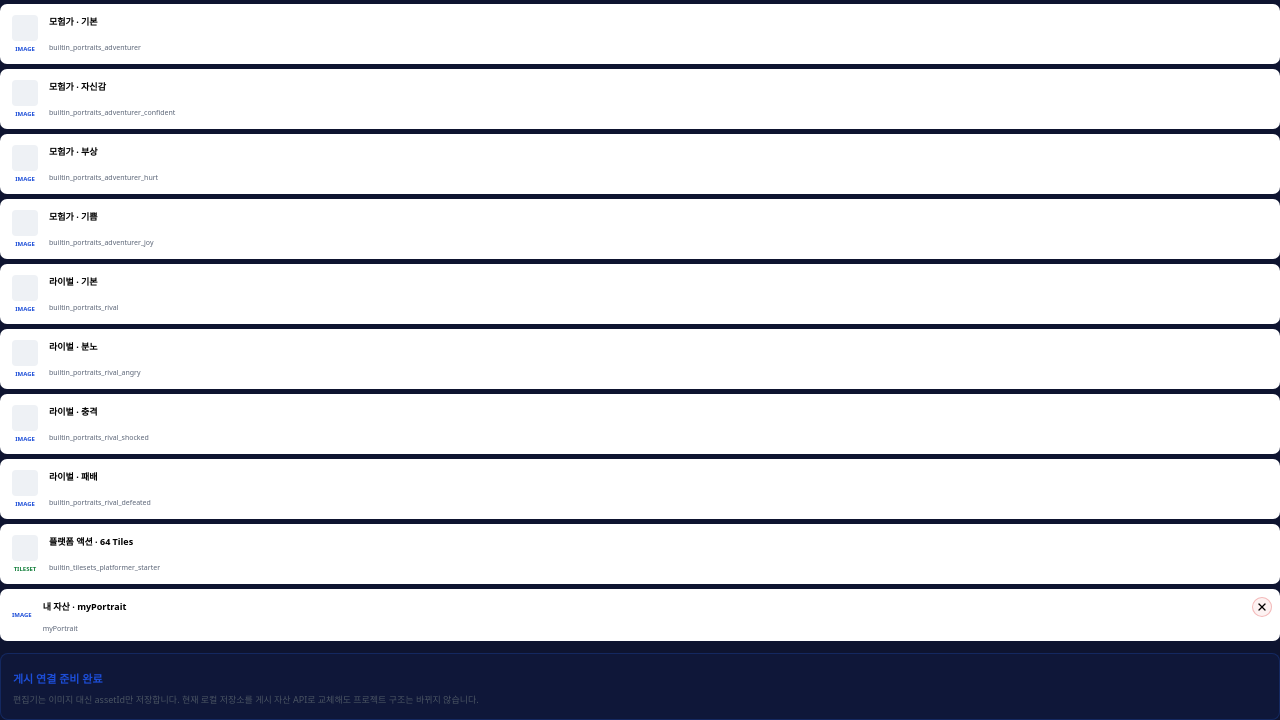
Test: ProjectDataPanel — 자산 삭제(S15P21A604-561) › 사용되지 않는 커스텀 자산은 삭제 버튼 → 확인 카드 → 삭제 확정까지 이어진다
The width and height of the screenshot is (1280, 720).
(page scrolled)
Click the button named "내 자산 · myPortrait 삭제" at (1262, 607), box [1252,597,1272,617]
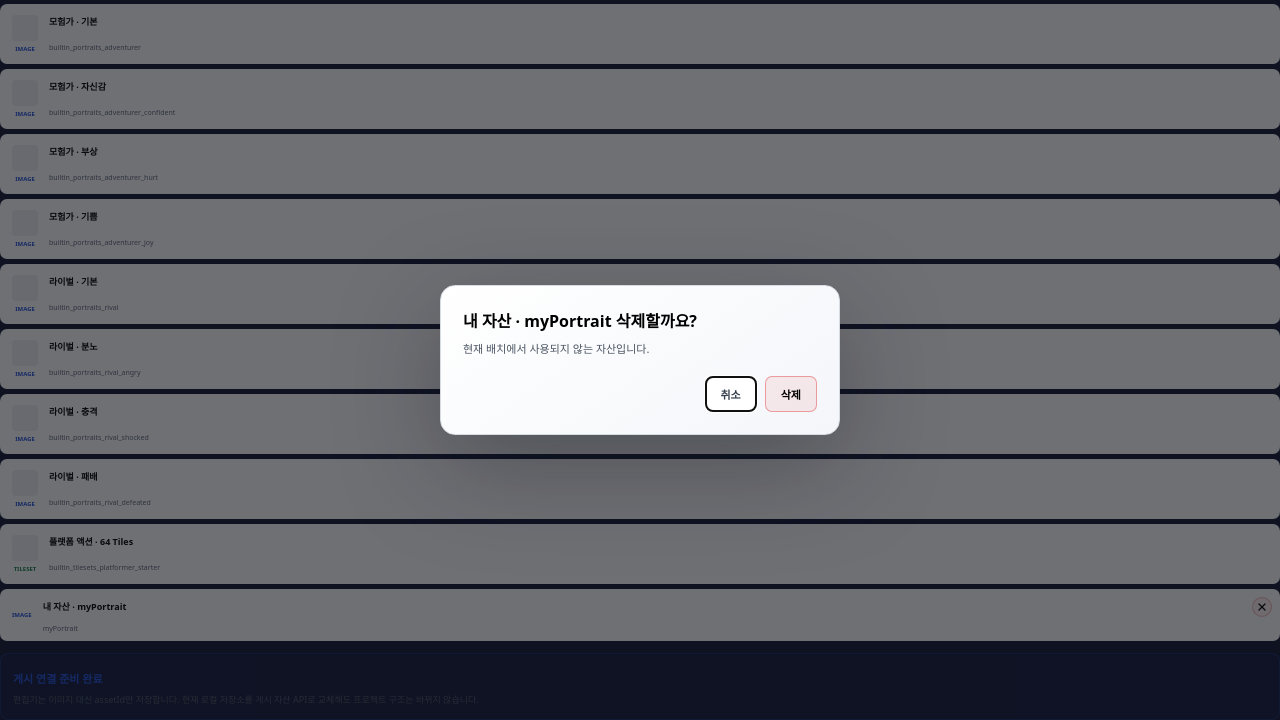
Now the text "현재 배치에서 사용되지 않는 자산입니다." is shown, box [463,341,649,356]
Click the button "삭제" at (791, 394), box [765,376,817,412]
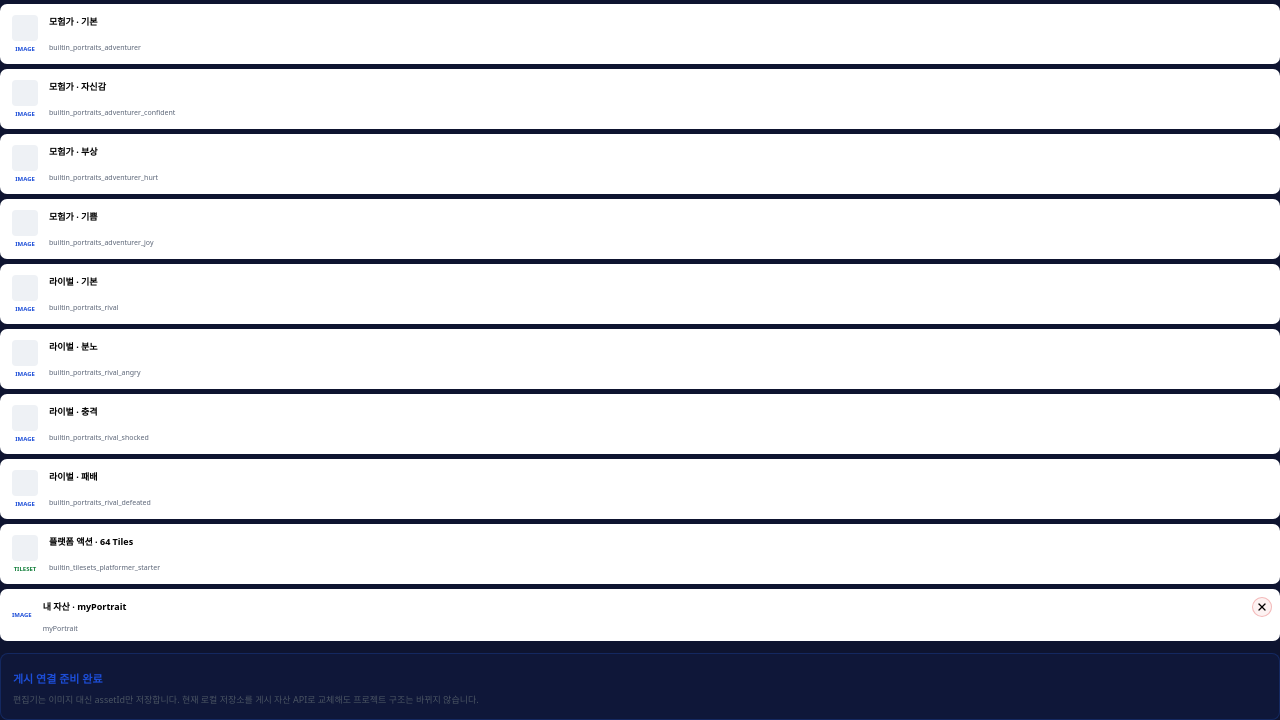
Now the dialog is gone
